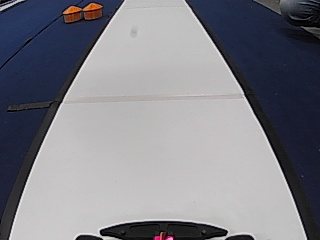granary: (61, 5, 81, 24), (83, 4, 103, 21)
